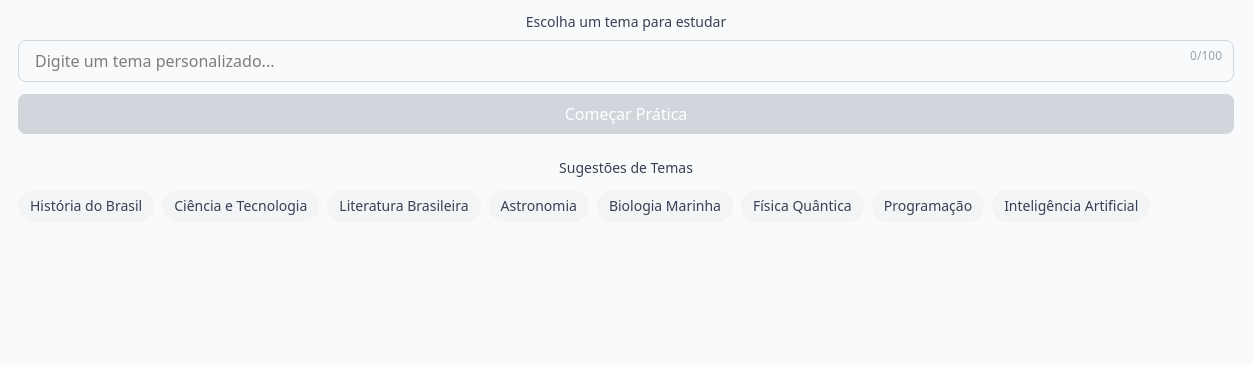
Test case: ThemeSelector › Local Storage Integration - Recent Themes › should increment usage count when theme is reused
// Add theme first time
Step 1. Type "Reused Theme" into the field with placeholder "Digite um tema personalizado..." → (626, 61), box [18,40,1234,82]
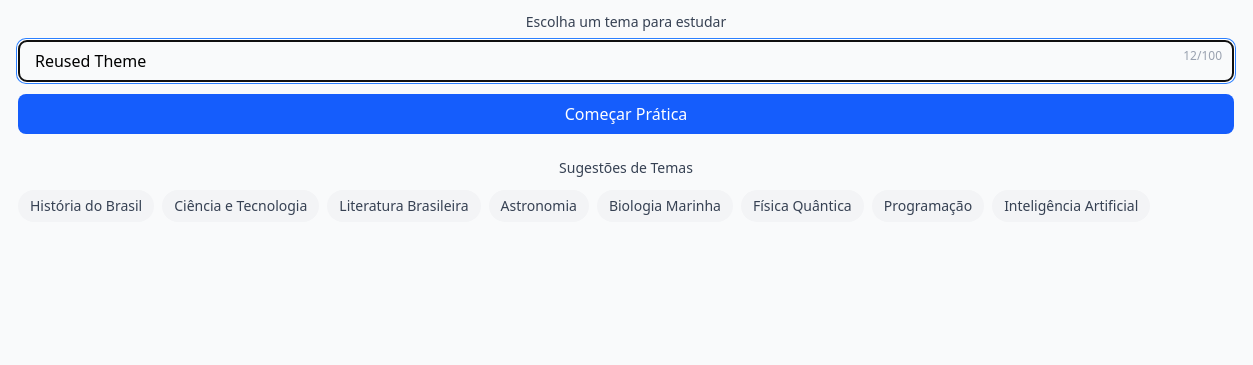
Step 2. Click the button "Começar Prática" → (626, 114), box [18,94,1234,134]
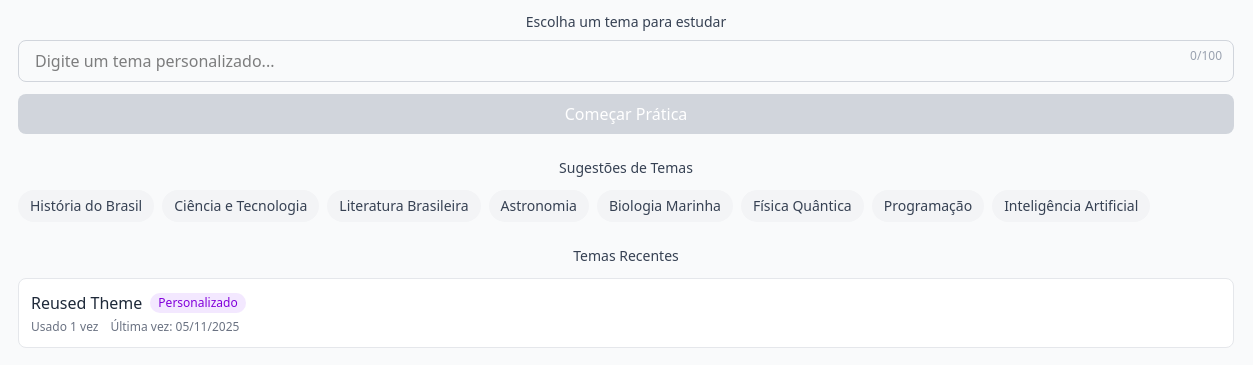
expect the text "Usado 1 vez" is shown: met, box [31,319,98,335]
// Click the recent theme to reuse it
Step 3. Click the text "Reused Theme" → (87, 303), box [31,291,142,315]
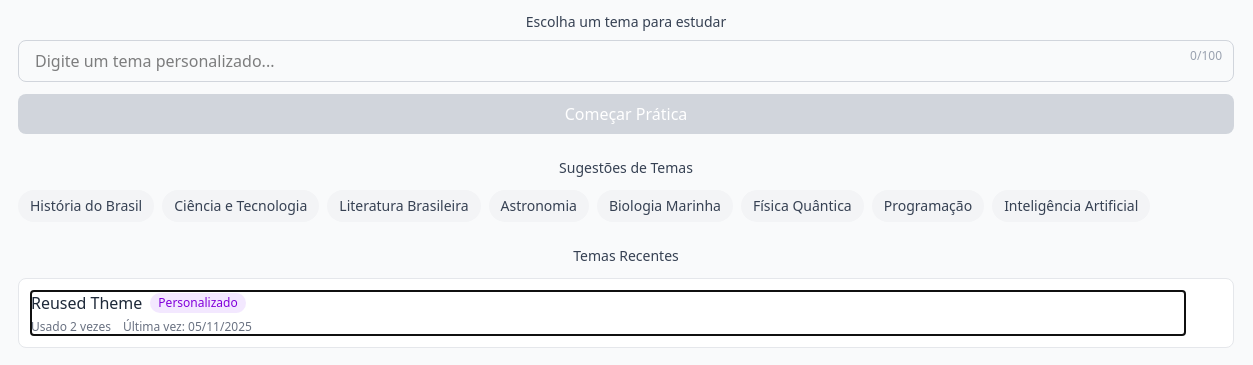
expect the text "Usado 2 vezes" is shown: met, box [31,319,111,335]
